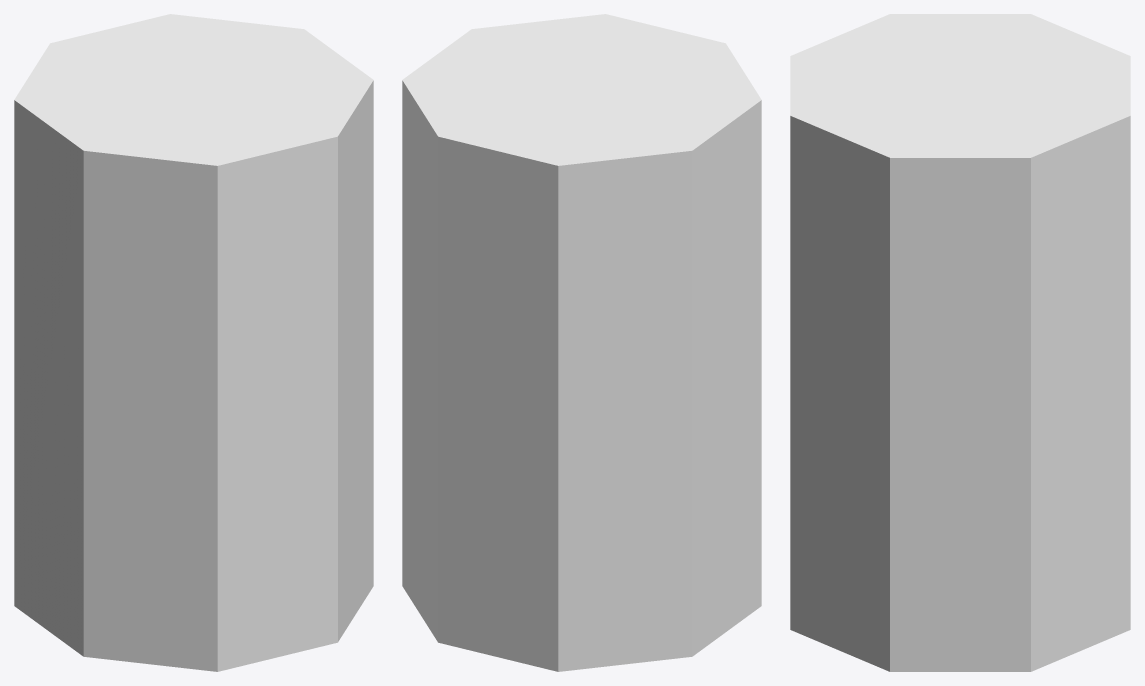
File: mod_candle.gltf
3 renders of one model, left to right at view 1: azimuth 30°, elevation 25°; view 2: azimuth 150°, elevation 25°; view 3: azimuth 270°, elevation 25°, orthographic.
Parts seen in each view (by area): view 1: cylinder; view 2: cylinder; view 3: cylinder.
Boxes of the visible parts, x1,y1,x2,y2 form: cylinder: (14, 14, 373, 671); cylinder: (402, 14, 761, 671); cylinder: (790, 14, 1130, 671).
Size of the model in its own units: 0.1875 by 0.3125 by 0.1875.
1 material, 1 textured.
